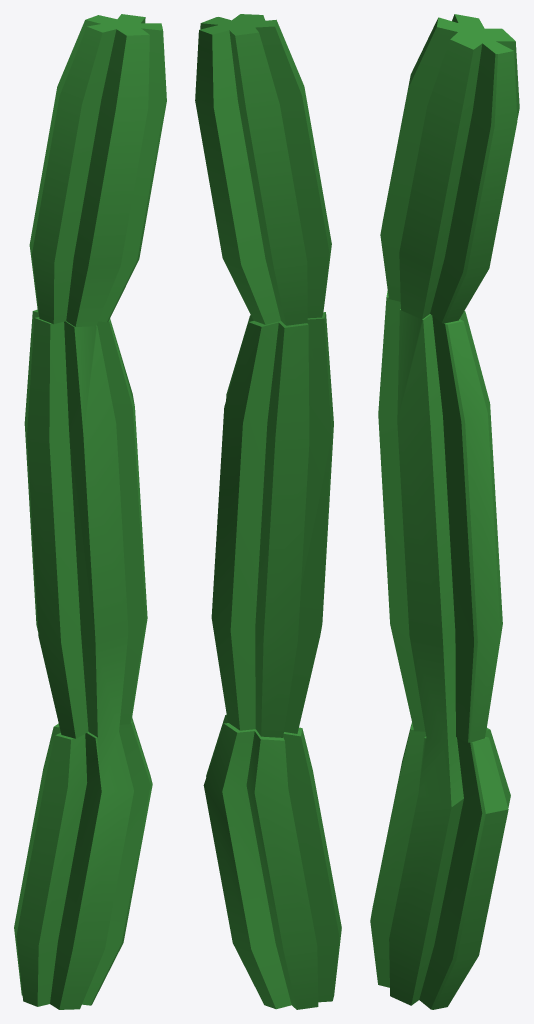
The model's file is Cactus_08.fbx.
3 renders of one model, left to right at view 1: azimuth 30°, elevation 25°; view 2: azimuth 150°, elevation 25°; view 3: azimuth 330°, elevation 25°, orthographic.
Visible parts, largest first — view 1: Model; view 2: Model; view 3: Model.
Part boxes in pixels (bbox=[...]): Model: bbox=[14, 14, 166, 1009]; Model: bbox=[195, 14, 341, 1009]; Model: bbox=[370, 14, 519, 1009].
Bounding box in the file's own units: 189 × 1213 × 96.31.
